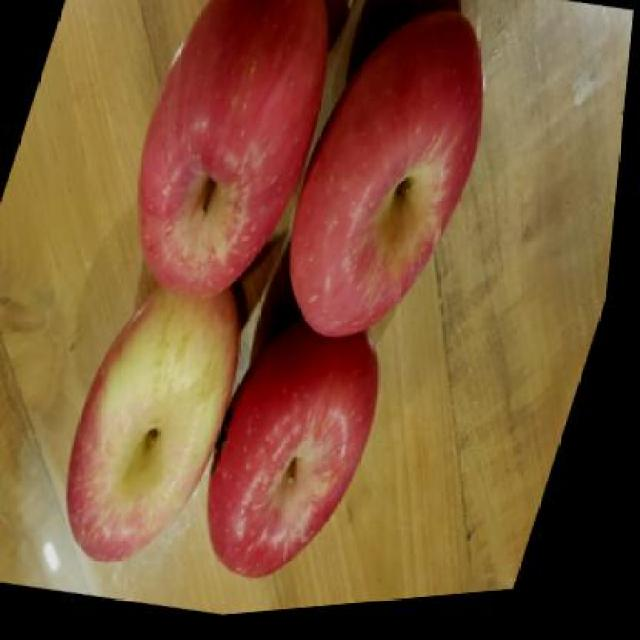Fresh Apple: (304, 34, 464, 327), (147, 5, 309, 275), (212, 340, 383, 569), (73, 304, 212, 561)
